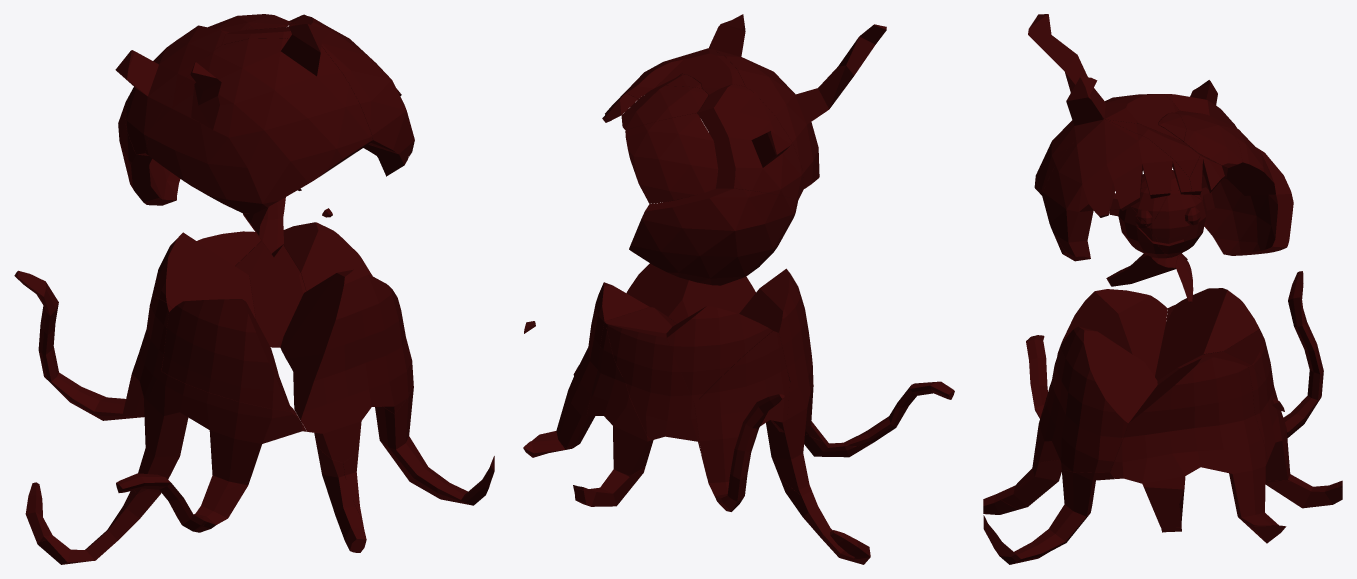
Rendered from broski_pieces.glb.
3 views of the same model, side by side, from view 1: azimuth 30°, elevation 25°; view 2: azimuth 150°, elevation 25°; view 3: azimuth 270°, elevation 25° (orthographic). The views are drawn at different scales.
Parts seen in each view (by area): view 1: Broski_cell.054, Broski_cell.038, Broski_cell.040, Broski_cell.043, Broski_cell.017, Broski_cell.041, Broski_cell.013, Broski_cell.012, Broski_cell.003, Broski_cell.032, Broski_cell.016, Broski_cell.005 (+10 smaller); view 2: Broski_cell.044, Broski_cell.017, Broski_cell.041, Broski_cell.054, Broski_cell.009, Broski_cell.035, Broski_cell.012, Broski_cell.003, Broski_cell.016, Broski_cell.038, Broski_cell.043, Broski_cell.040 (+8 smaller); view 3: Broski_cell.016, Broski_cell.038, Broski_cell.013, Broski_cell.044, Broski_cell.012, Broski_cell.043, Broski_cell.054, Broski_cell.032, Broski_cell.003, Broski_cell.017, Broski_cell.010, Broski_cell.035 (+17 smaller).
Boxes of the visible parts, bbox=[...] form: Broski_cell.054: bbox=[145, 23, 372, 213]; Broski_cell.038: bbox=[280, 269, 413, 462]; Broski_cell.040: bbox=[134, 371, 306, 497]; Broski_cell.043: bbox=[161, 299, 290, 411]; Broski_cell.017: bbox=[14, 270, 171, 420]; Broski_cell.041: bbox=[115, 25, 229, 155]; Broski_cell.013: bbox=[321, 25, 414, 156]; Broski_cell.012: bbox=[152, 232, 255, 318]; Broski_cell.003: bbox=[235, 241, 306, 347]; Broski_cell.032: bbox=[375, 378, 494, 505]; Broski_cell.016: bbox=[283, 222, 372, 291]; Broski_cell.005: bbox=[36, 478, 168, 564]; Broski_cell.044: bbox=[629, 188, 798, 285]; Broski_cell.017: bbox=[694, 331, 789, 511]; Broski_cell.041: bbox=[697, 84, 803, 199]; Broski_cell.054: bbox=[710, 14, 886, 188]; Broski_cell.009: bbox=[606, 324, 700, 452]; Broski_cell.035: bbox=[625, 113, 717, 203]; Broski_cell.012: bbox=[666, 306, 772, 403]; Broski_cell.003: bbox=[587, 307, 676, 475]; Broski_cell.016: bbox=[524, 282, 649, 447]; Broski_cell.038: bbox=[626, 263, 755, 323]; Broski_cell.043: bbox=[739, 268, 811, 381]; Broski_cell.040: bbox=[766, 347, 823, 496]; Broski_cell.016: bbox=[1110, 357, 1282, 527]; Broski_cell.038: bbox=[1035, 326, 1157, 472]; Broski_cell.013: bbox=[1042, 119, 1191, 256]; Broski_cell.044: bbox=[1200, 147, 1293, 255]; Broski_cell.012: bbox=[1155, 288, 1259, 380]; Broski_cell.043: bbox=[1057, 289, 1167, 376]; Broski_cell.054: bbox=[1028, 14, 1159, 195]; Broski_cell.032: bbox=[983, 469, 1114, 564]; Broski_cell.003: bbox=[1157, 351, 1290, 480]; Broski_cell.017: bbox=[1166, 271, 1323, 438]; Broski_cell.010: bbox=[1176, 111, 1242, 167]; Broski_cell.035: bbox=[1210, 116, 1275, 195].
Bounding box in the file's own units: 3.97 × 5.98 × 4.01.
1 material, 1 textured.
